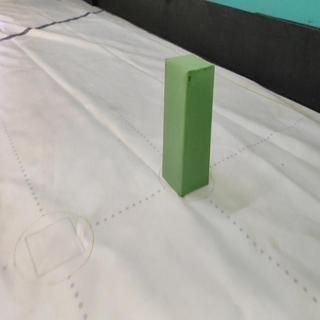greenbox: (163, 53, 216, 198)
